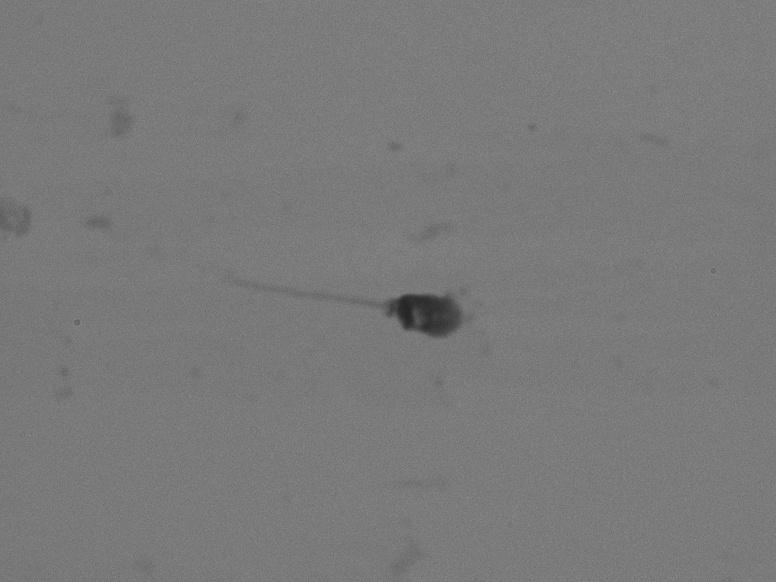Abnormal: (83, 183, 502, 392)
